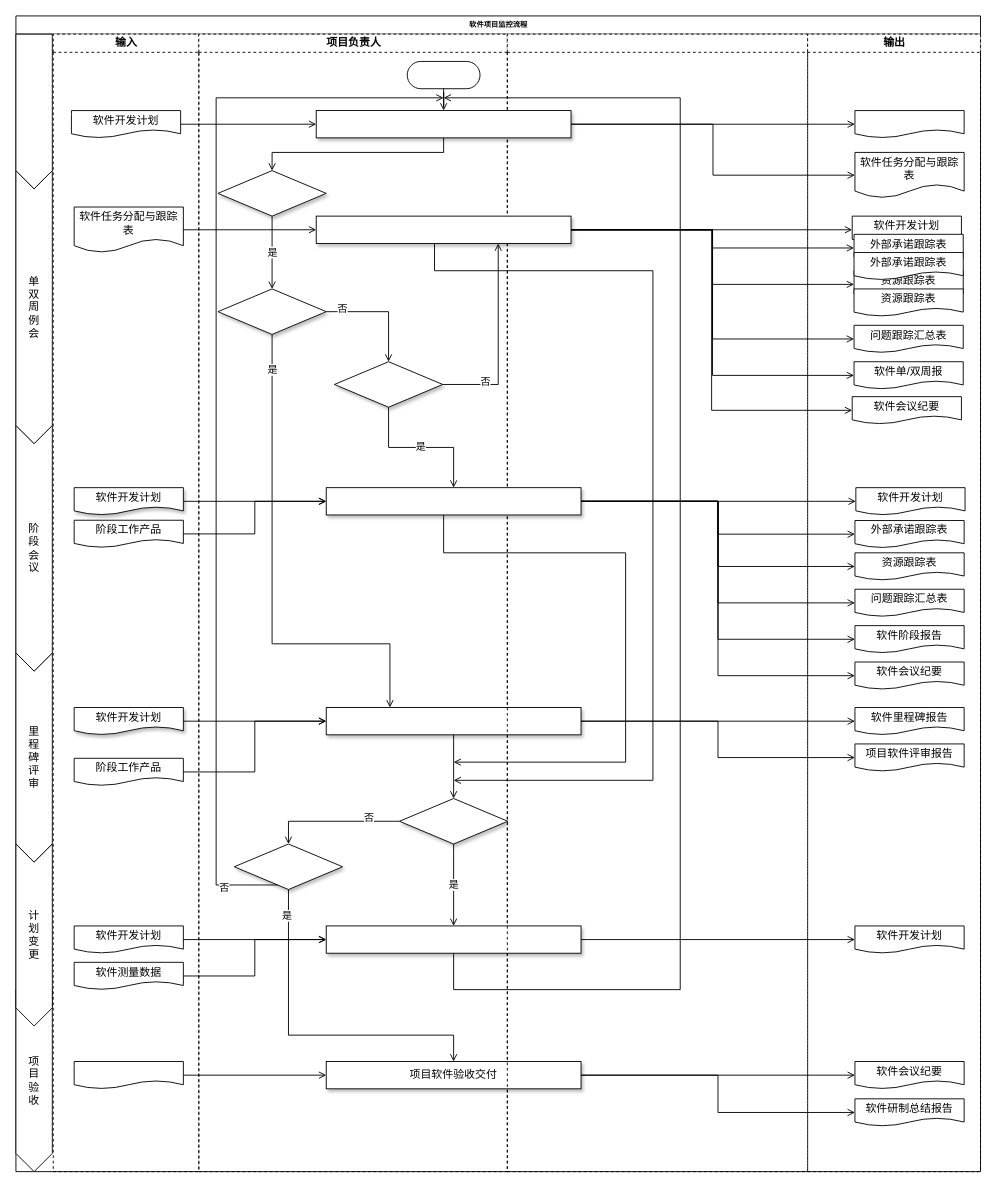
Some shapes in this 996 by 1188 pixel diagram are drawn without their labels. Here are the shapes that lost their labels. From the top down, the centre of each, then its label:
At (443,75): "开始".
At (33,111): "任 务 分 配 与 跟 踪".
At (444,125): "任务分配与跟踪".
At (909,124): "个人单/双周报".
At (272,194): "单双周点".
At (444,231): "召开单/双周例会".
At (272,312): "里程碑点".
At (389,385): "阶段点".
At (454,502): "召开阶段会议".
At (657,602): "相关人员".
At (454,722): "里程碑评审".
At (454,822): "触发计划变更".
At (289,867): "项目软件结束".
At (454,940): "计划变更".
At (128,1075): "项目软件执行情况".
